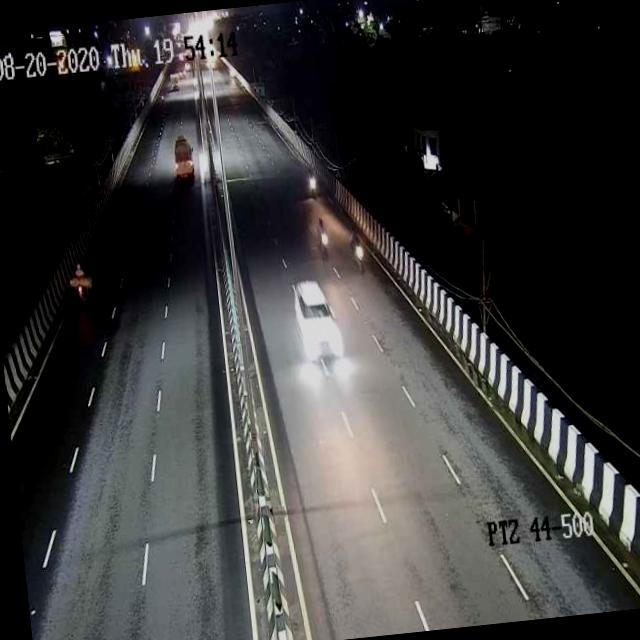car: (288, 275, 346, 366), (166, 130, 198, 184)
